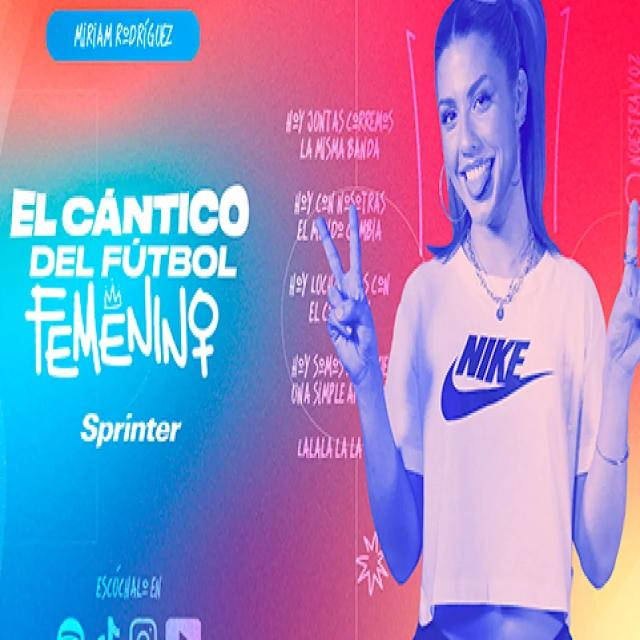nike: (436, 322, 556, 443)
